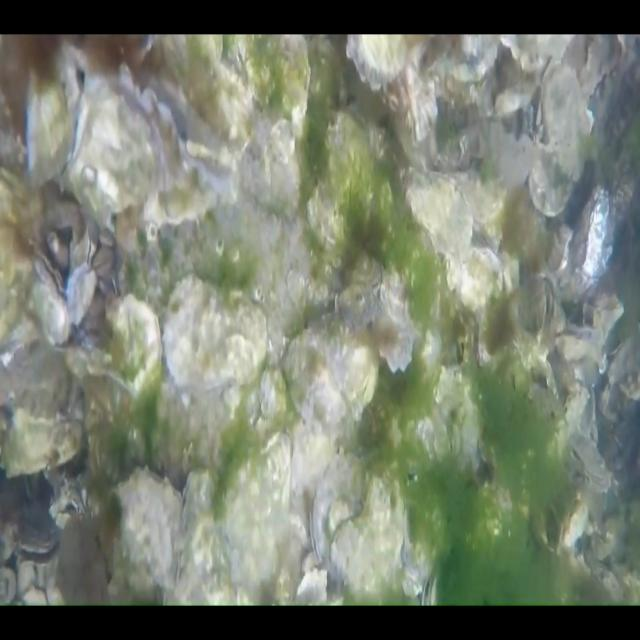Oyster- Indeterminate: (219, 429, 299, 592), (541, 62, 592, 180), (479, 291, 518, 363), (518, 276, 552, 336), (550, 298, 566, 344)
Oyster-Closed: (392, 157, 517, 317), (336, 2, 471, 148), (262, 307, 396, 444), (164, 36, 310, 144), (66, 76, 158, 228), (539, 169, 634, 306), (163, 276, 266, 391), (107, 466, 185, 608), (297, 447, 375, 571), (105, 290, 167, 397), (0, 506, 63, 605), (422, 36, 501, 113), (26, 73, 73, 184), (61, 261, 97, 322)
Oyster-Open: (24, 247, 70, 337), (566, 427, 617, 496), (553, 496, 596, 554), (63, 229, 102, 278)
